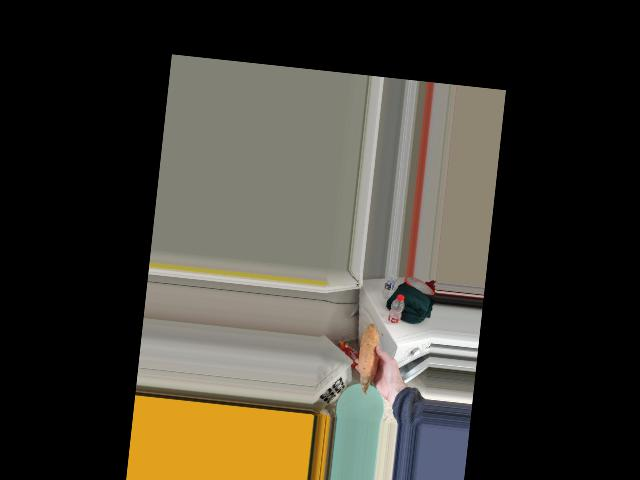sweet_potato: (359, 332, 379, 385)
